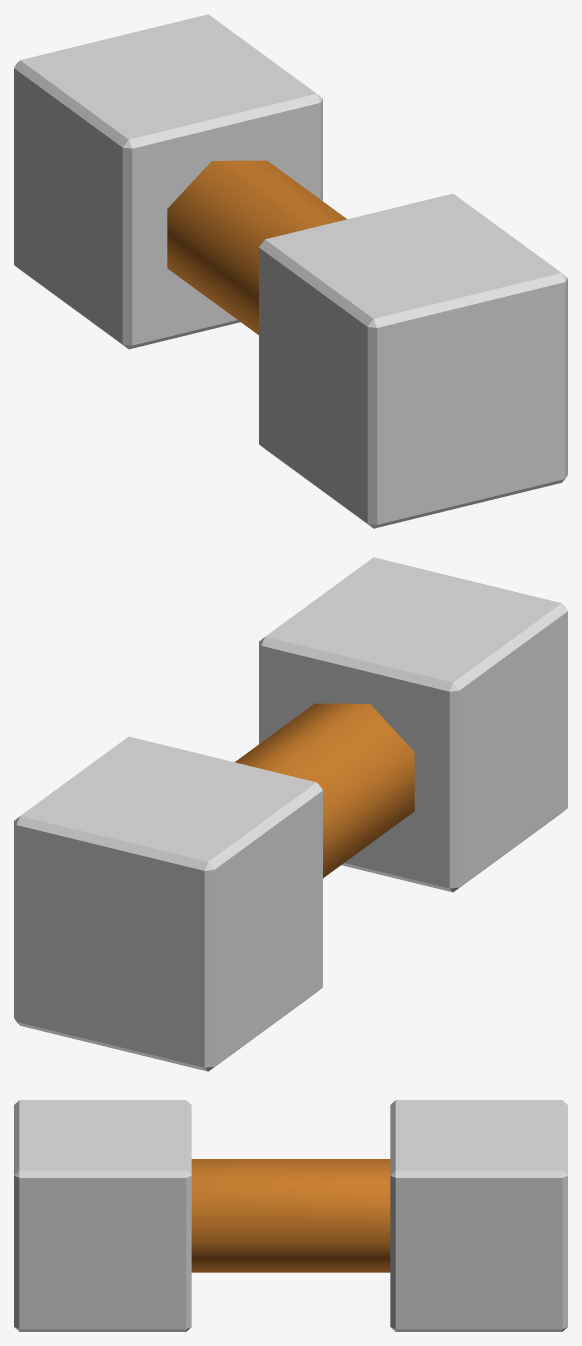
Rendered from R4C_STRUT_STANDARD_LOD1.fbx.
The picture shows the model from 3 angles, top to bottom: view 1: azimuth 30°, elevation 25°; view 2: azimuth 150°, elevation 25°; view 3: azimuth 270°, elevation 25°; orthographic projection. The views are drawn at different scales.
Visible parts, largest first — view 1: R4C_STRUT_STANDARD_LOD1; view 2: R4C_STRUT_STANDARD_LOD1; view 3: R4C_STRUT_STANDARD_LOD1.
Part boxes in pixels (x1,y1,x2,y2): R4C_STRUT_STANDARD_LOD1: [14, 14, 567, 528]; R4C_STRUT_STANDARD_LOD1: [14, 557, 567, 1071]; R4C_STRUT_STANDARD_LOD1: [14, 1100, 567, 1331].
Size of the model in its own units: 0.52 by 0.52 by 1.62.
